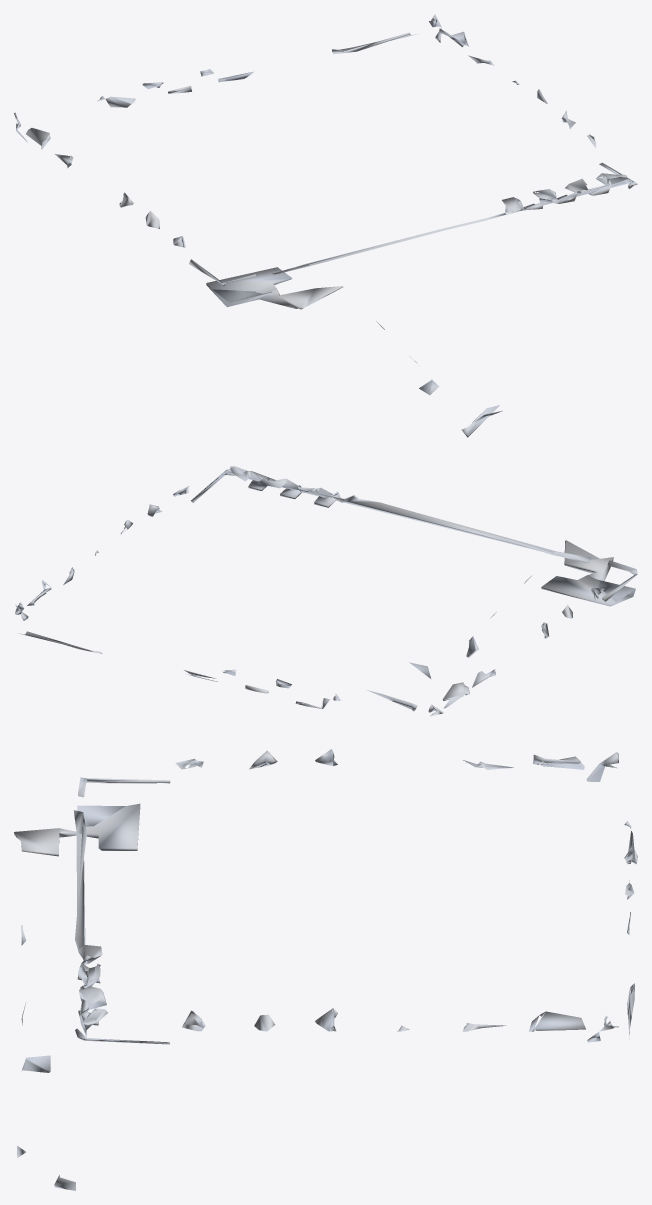
File: protocol.eigenlayer.snow.glb
The picture shows the model from 3 angles, top to bottom: view 1: azimuth 30°, elevation 25°; view 2: azimuth 150°, elevation 25°; view 3: azimuth 270°, elevation 25°; orthographic projection. The views are drawn at different scales.
Parts seen in each view (by area): view 1: building.protocol.eigenlayer.snow.mesh; view 2: building.protocol.eigenlayer.snow.mesh; view 3: building.protocol.eigenlayer.snow.mesh.
Part boxes in pixels (left/top/right/bottom): building.protocol.eigenlayer.snow.mesh: left=14, top=14, right=637, bottom=437; building.protocol.eigenlayer.snow.mesh: left=15, top=466, right=637, bottom=716; building.protocol.eigenlayer.snow.mesh: left=14, top=749, right=637, bottom=1190.
Size of the model in its own units: 12.44 by 6.32 by 12.24.
